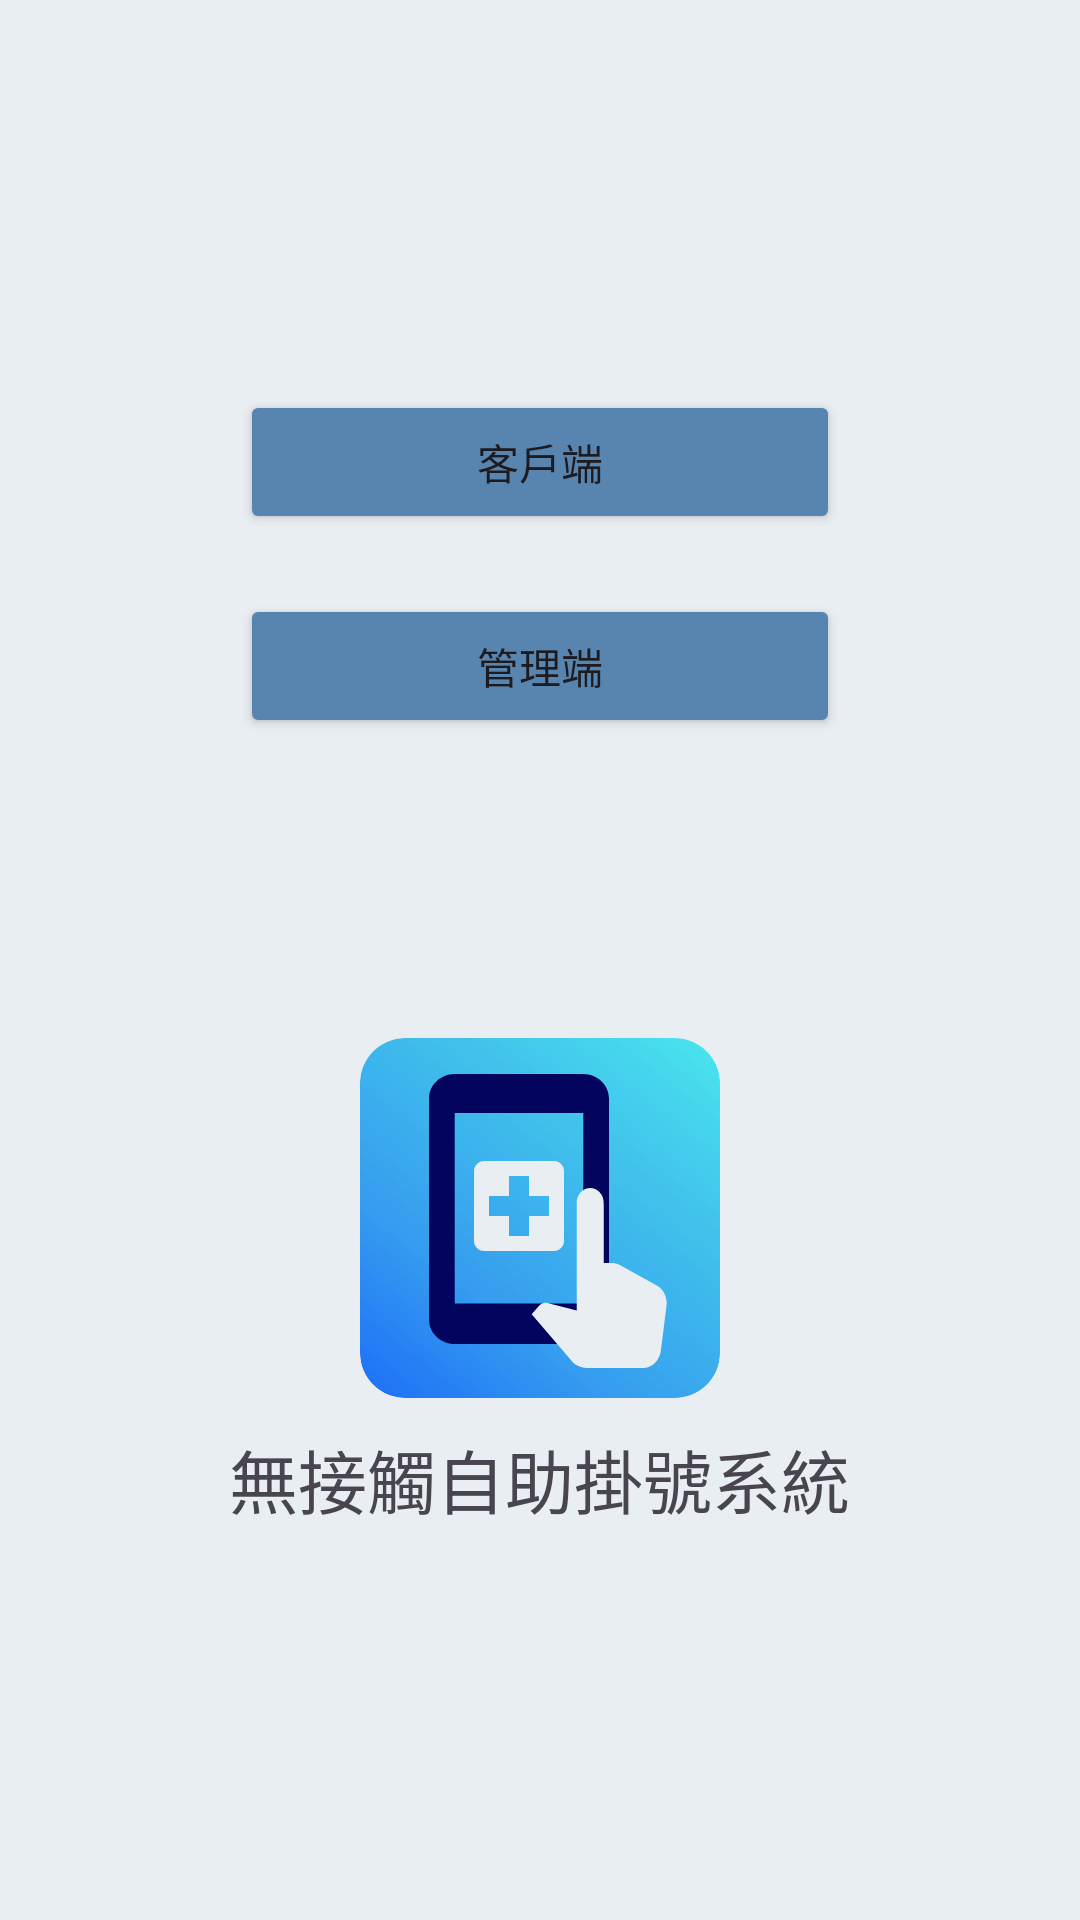

Where to tap for icons on this 1080×1920 app screen, as [x,y]:
app: [540,1218]
